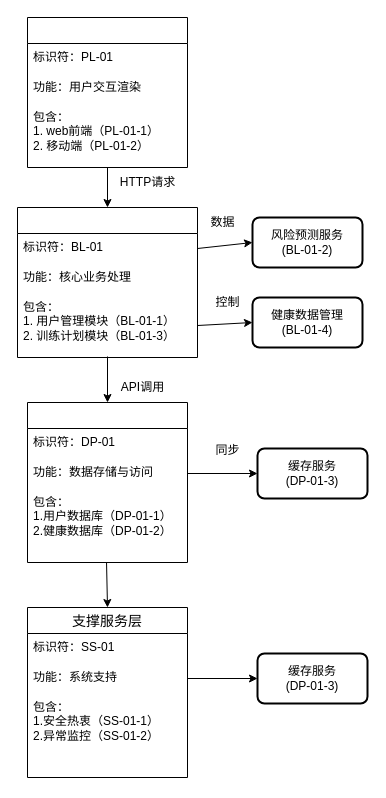
Some shapes in this 386 by 798 pixel diagram are drawn without their labels. The shapes that lost their labels are listed below. From the top down, each one's box as (x1, y1, x2, y2) in pixels, then its label:
(26, 16, 188, 168): 展示层
(16, 206, 198, 358): 业务逻辑层
(26, 402, 188, 562): 数据持久层
